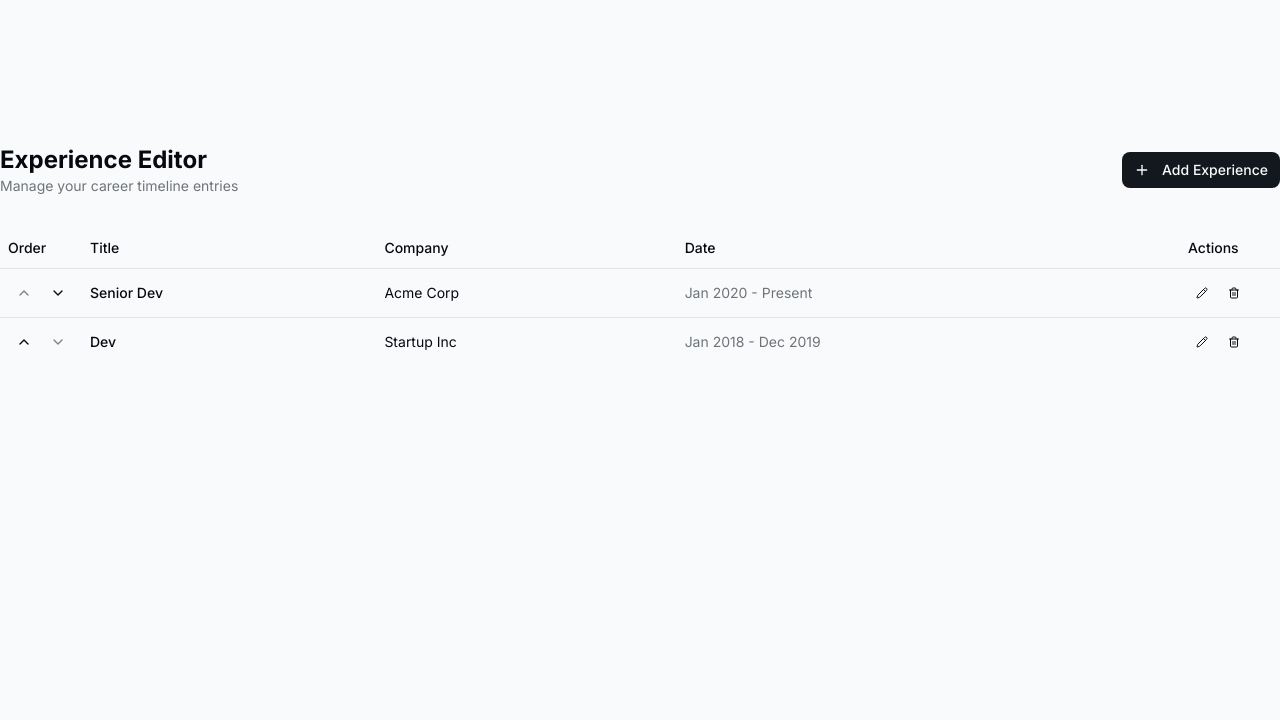
Test case: ExperienceEditor › opens add dialog and creates experience
Click the button "Add Experience": (1201, 170) [1122,152,1279,188]
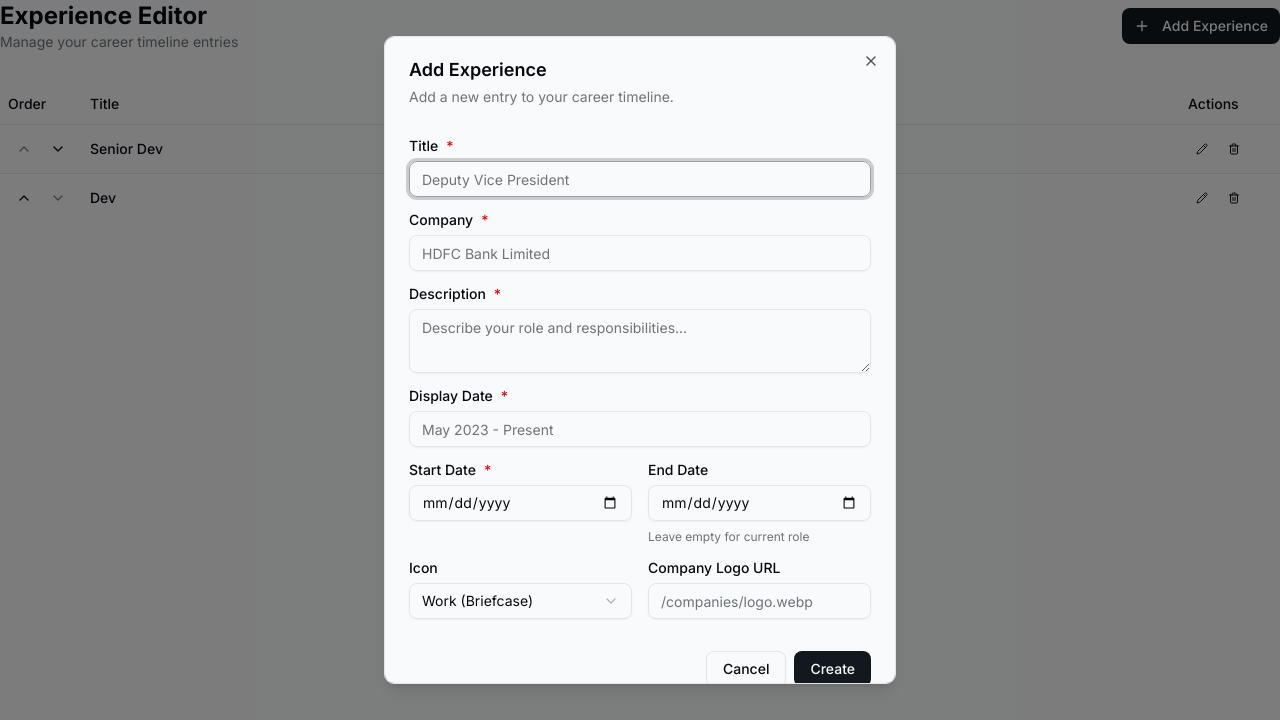
Now the heading "Add Experience" is shown, box [409,59,547,80]
# Fill in the form
In the field labelled "Title *": (640, 179) [409,161,871,197], type "Tech Lead"
In the field labelled "Company *": (640, 253) [409,235,871,271], type "New Corp"
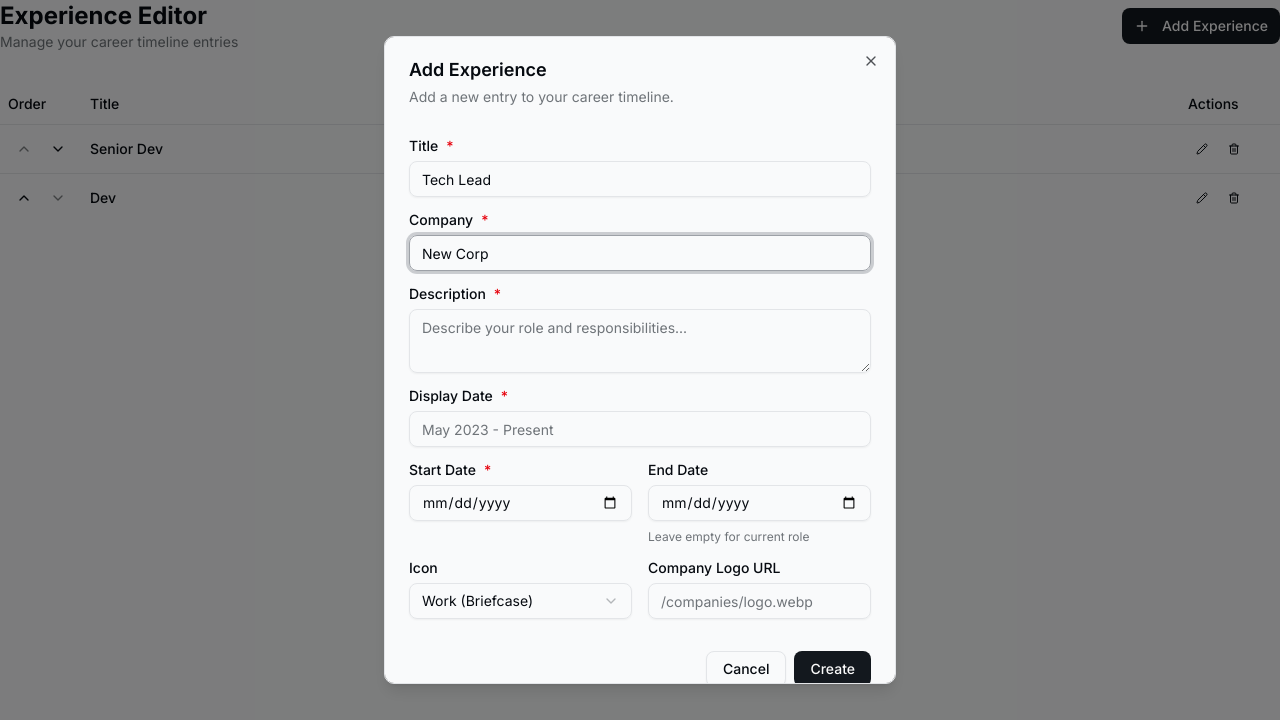
In the text box labelled "Description *": (640, 341) [409,309,871,373], type "Leading engineering"
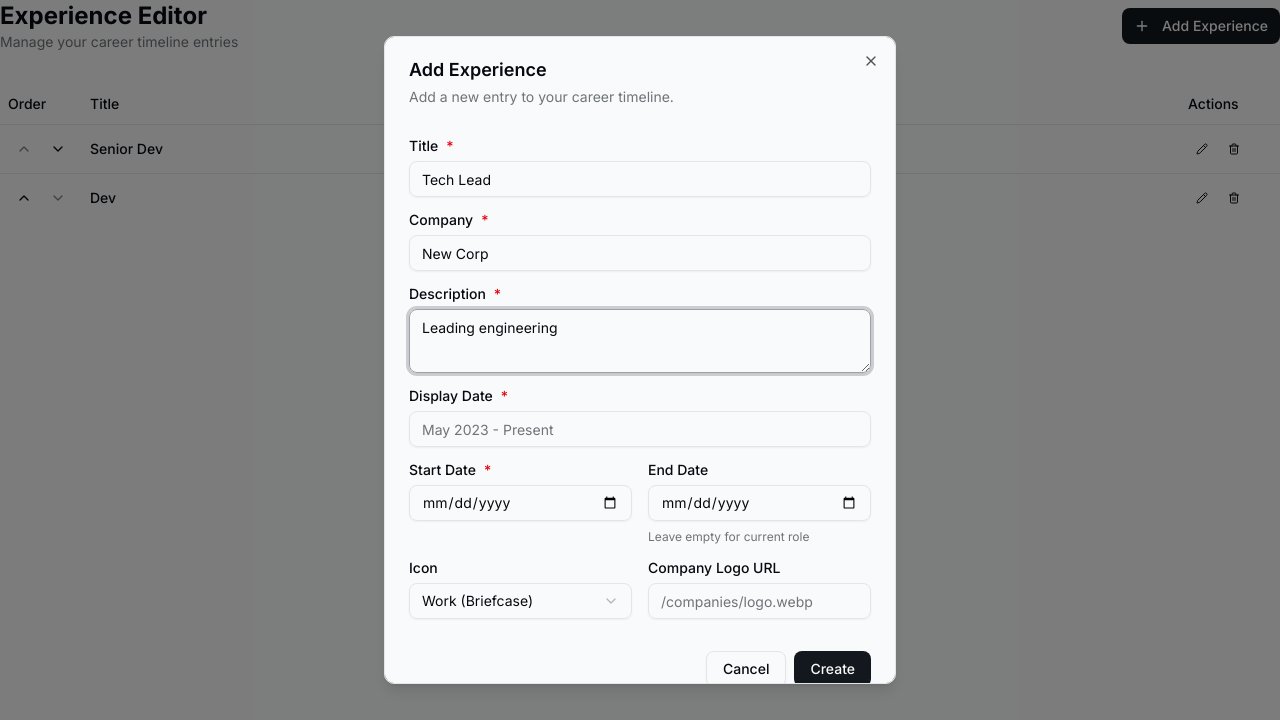
In the field labelled "Display Date *": (640, 429) [409,411,871,447], type "Jan 2023 - Present"
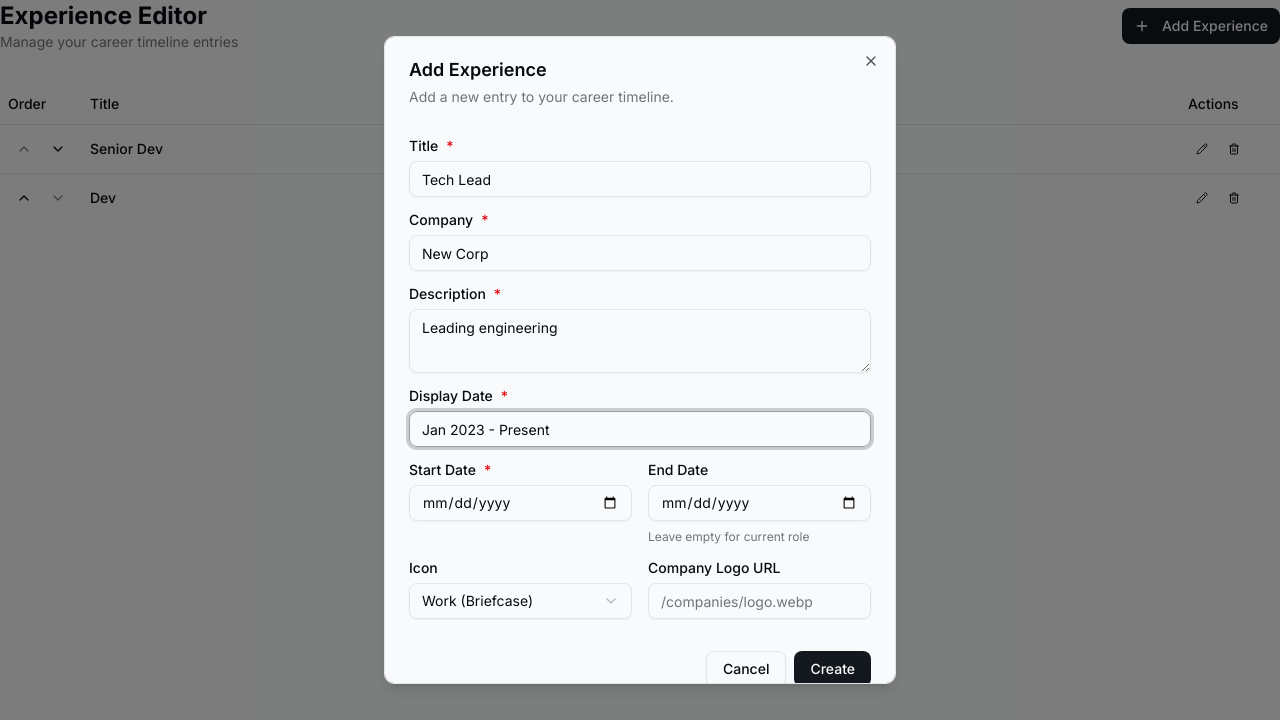
In the date field labelled "Start Date *": (520, 503) [409,485,632,521], type "2023-01-01"
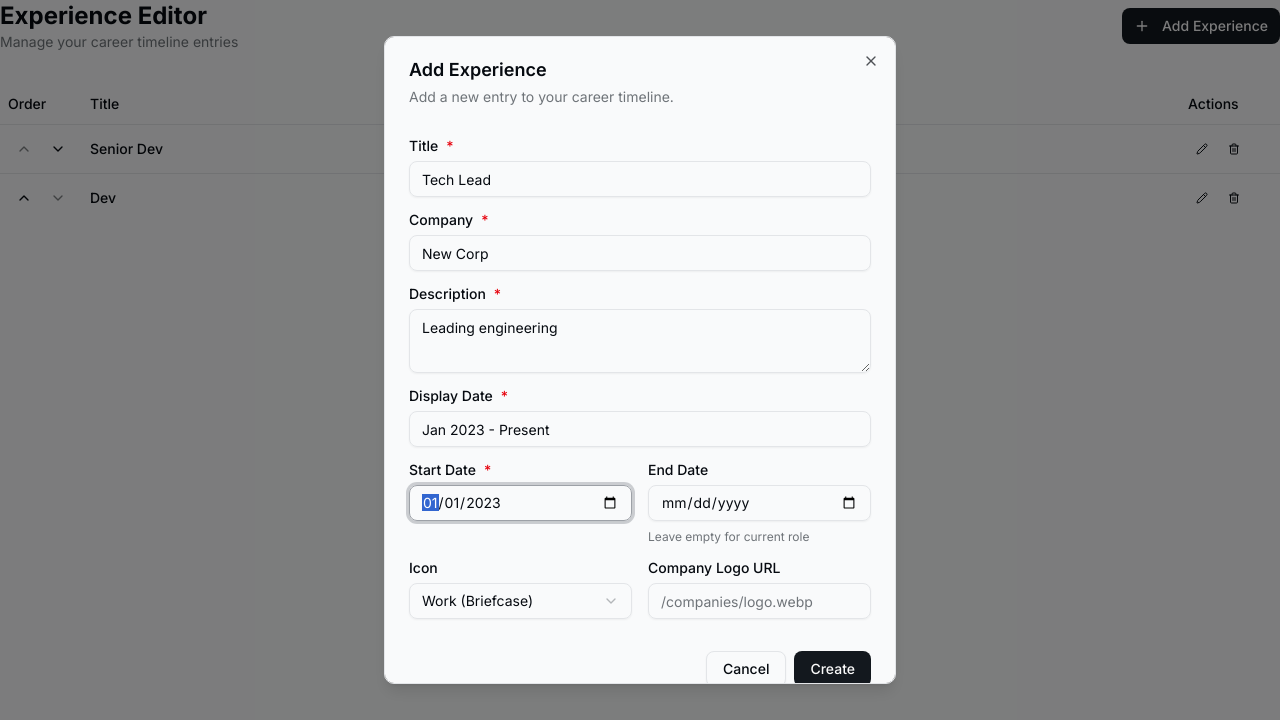
Click the button "Create": (833, 669) [794,651,871,687]
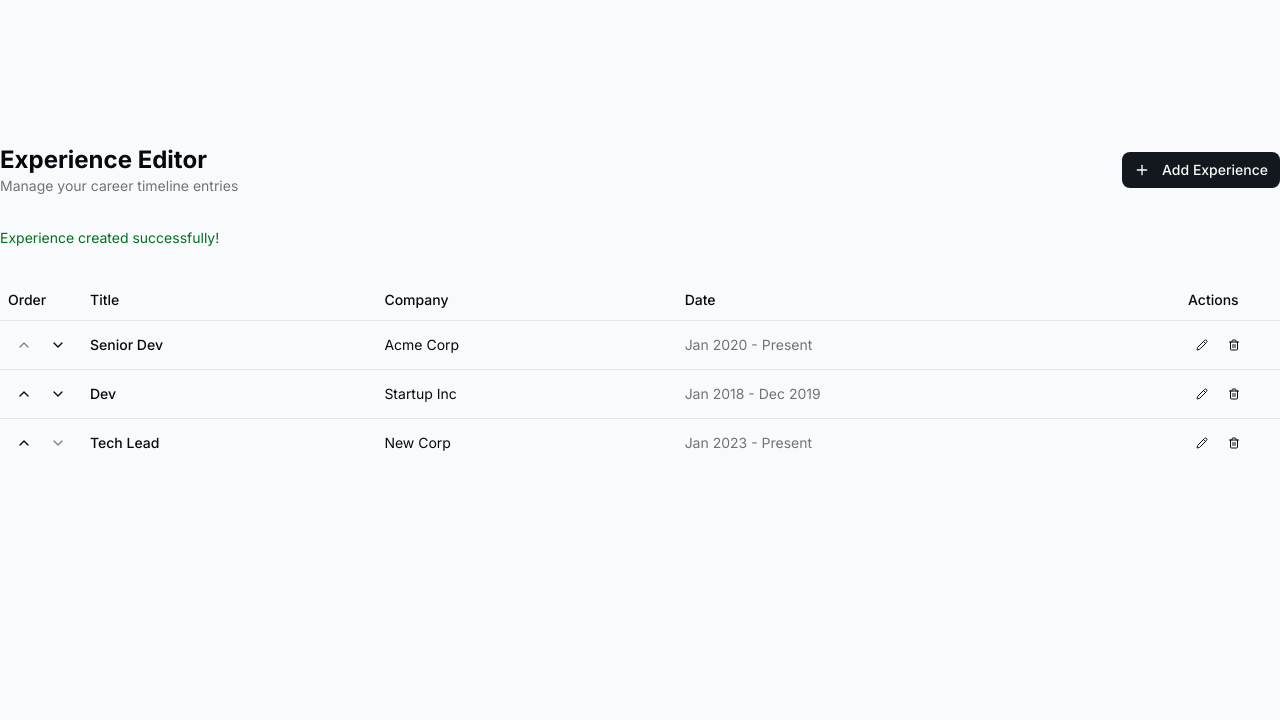
Now the text "Tech Lead" is shown, box [82,418,376,466]
